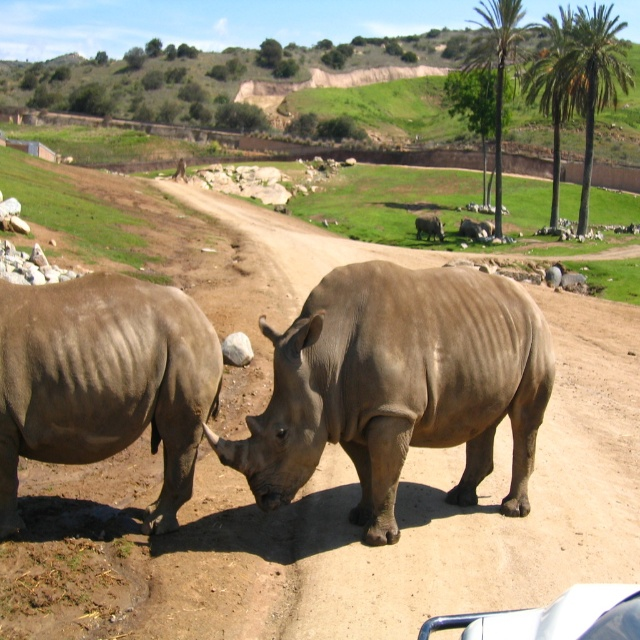Rhinoceros: (199, 256, 564, 552), (0, 269, 225, 547), (412, 215, 446, 245)
